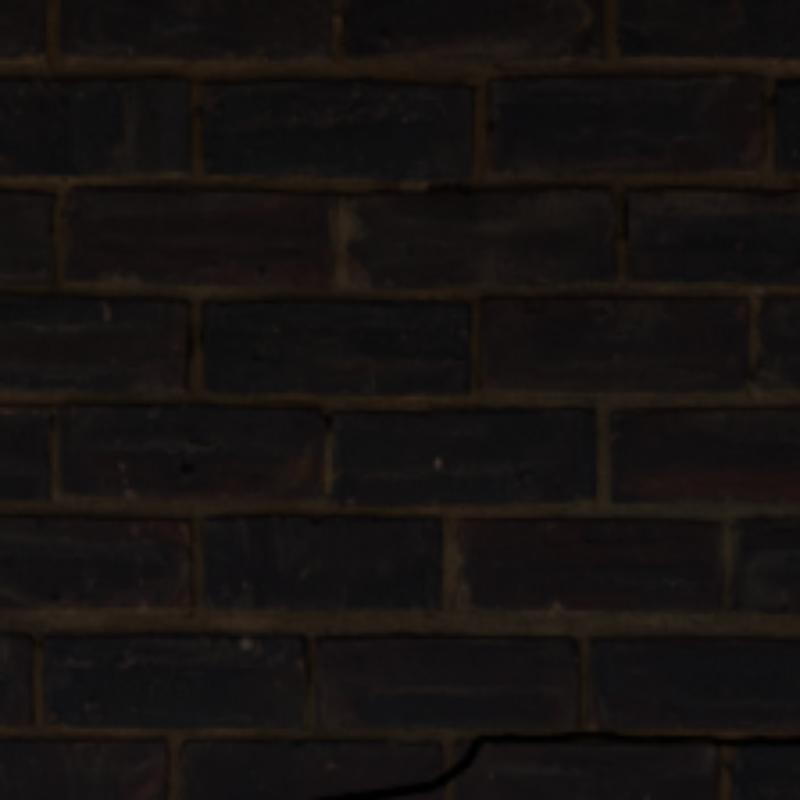pothole: (318, 729, 796, 796)
